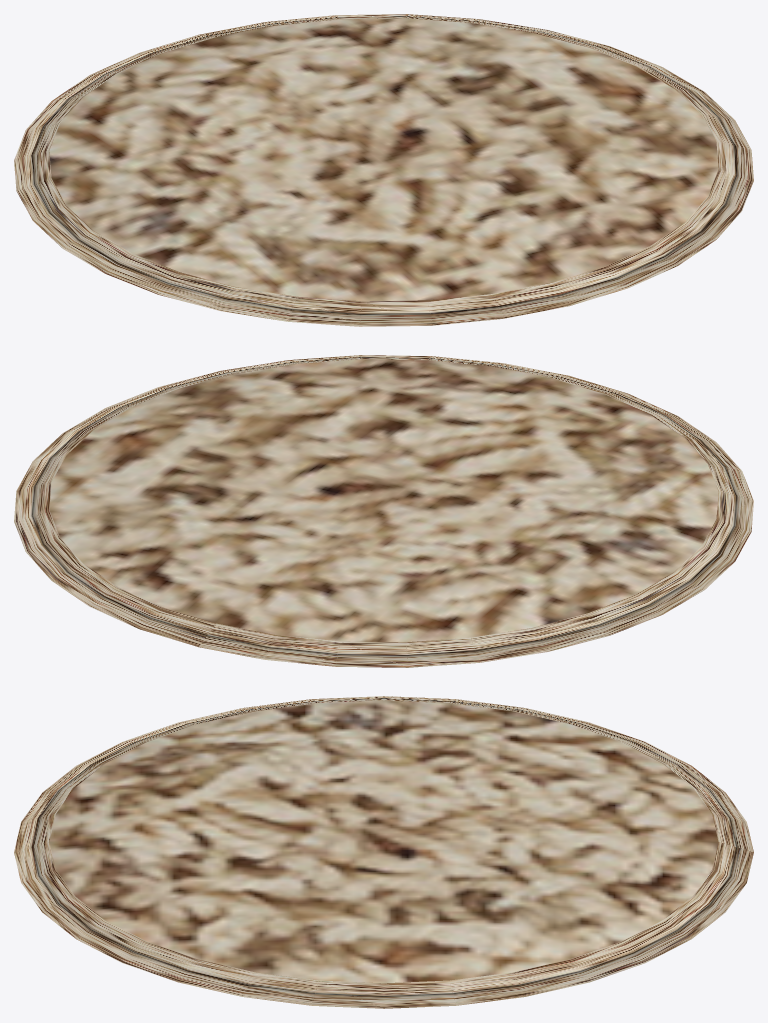
Rendered from alfombra habi grande.fbx.
3 renders of one model, top to bottom at view 1: azimuth 30°, elevation 25°; view 2: azimuth 150°, elevation 25°; view 3: azimuth 270°, elevation 25°, orthographic.
Parts seen in each view (by area): view 1: Cylinder.019; view 2: Cylinder.019; view 3: Cylinder.019.
Boxes of the visible parts, x1,y1,x2,y2 form: Cylinder.019: [14, 14, 753, 326]; Cylinder.019: [14, 355, 753, 667]; Cylinder.019: [14, 696, 753, 1008].
Size of the model in its own units: 1318 by 37.2 by 1318.
